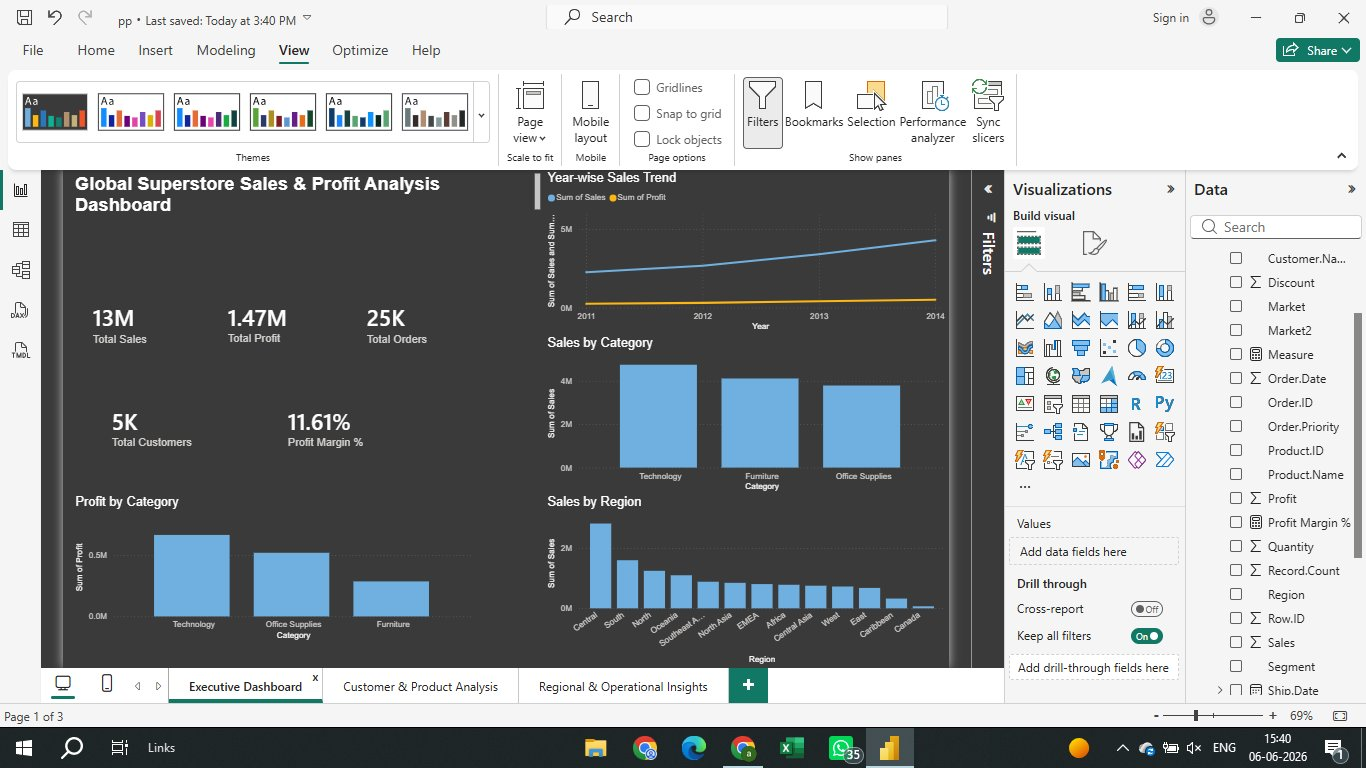

This screenshot's page, from the dashboard's own definition file:
{"tool":"powerbi","page":{"name":"Executive Dashboard","canvas":[1280,720],"ordinal":0},"visuals":[{"type":"cardVisual","fields":{"Data":["superstore_fixed.Total Sales"]},"box":[13.2,164.6,151.3,113.1],"z":0},{"type":"cardVisual","fields":{"Data":["superstore_fixed.Total Profit"]},"box":[208.7,161.6,154.3,116.1],"z":1000},{"type":"cardVisual","fields":{"Data":["superstore_fixed.Total Orders"]},"box":[408.5,164.6,163.1,113.1],"z":2000},{"type":"cardVisual","fields":{"Data":["superstore_fixed.Total Customers"]},"box":[41.1,310,188.1,123.4],"z":3000},{"type":"cardVisual","fields":{"Data":["superstore_fixed.Profit Margin %"]},"box":[295.3,310,224.8,123.4],"z":4000},{"type":"clusteredColumnChart","title":"Sales by Category","fields":{"Y":["Sum(superstore_fixed.Sales)"],"Category":["superstore_fixed.Category"]},"box":[695,238,584.8,230.7],"z":5000},{"type":"clusteredColumnChart","title":"Profit by Category","fields":{"Category":["superstore_fixed.Category"],"Y":["Sum(superstore_fixed.Profit)"]},"box":[13.2,468.7,584.8,216],"z":6000},{"type":"clusteredColumnChart","title":"Sales by Region","fields":{"Category":["superstore_fixed.Region"],"Y":["Sum(superstore_fixed.Sales)"]},"box":[695,468.7,584.8,251.3],"z":7000},{"type":"textbox","box":[13.2,0,681.8,73.5],"z":8000},{"type":"lineChart","title":"Year-wise Sales Trend","fields":{"Category":["superstore_fixed.Year"],"Y":["Sum(superstore_fixed.Sales)","Sum(superstore_fixed.Profit)"]},"box":[695,0,584.8,238],"z":9000}]}

Visuals, with their boxes on the page's 1280x720 design canvas (x1, y1, x2, y2). These are canvas units, not pixel positions in the 1366x768 screenshot, which may show the page scaled, cropped or inside an application window:
cardVisual - superstore_fixed.Total Sales: bbox(13, 165, 164, 278)
cardVisual - superstore_fixed.Total Profit: bbox(209, 162, 363, 278)
cardVisual - superstore_fixed.Total Orders: bbox(408, 165, 572, 278)
cardVisual - superstore_fixed.Total Customers: bbox(41, 310, 229, 433)
cardVisual - superstore_fixed.Profit Margin %: bbox(295, 310, 520, 433)
"Sales by Category" clusteredColumnChart: bbox(695, 238, 1280, 469)
"Profit by Category" clusteredColumnChart: bbox(13, 469, 598, 685)
"Sales by Region" clusteredColumnChart: bbox(695, 469, 1280, 720)
textbox: bbox(13, 0, 695, 74)
"Year-wise Sales Trend" lineChart: bbox(695, 0, 1280, 238)
